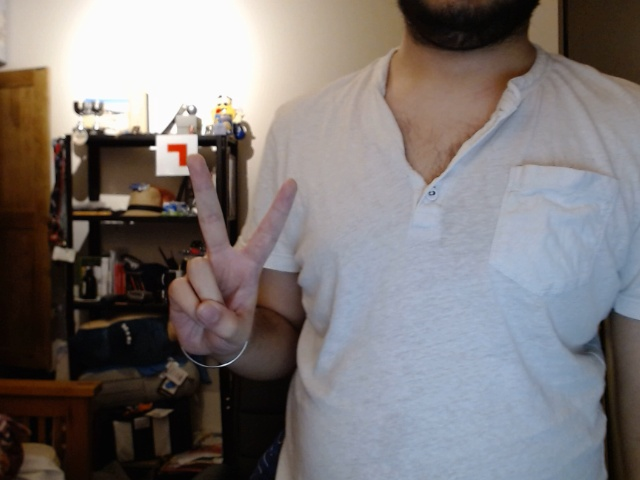Peace: (161, 154, 308, 376)
